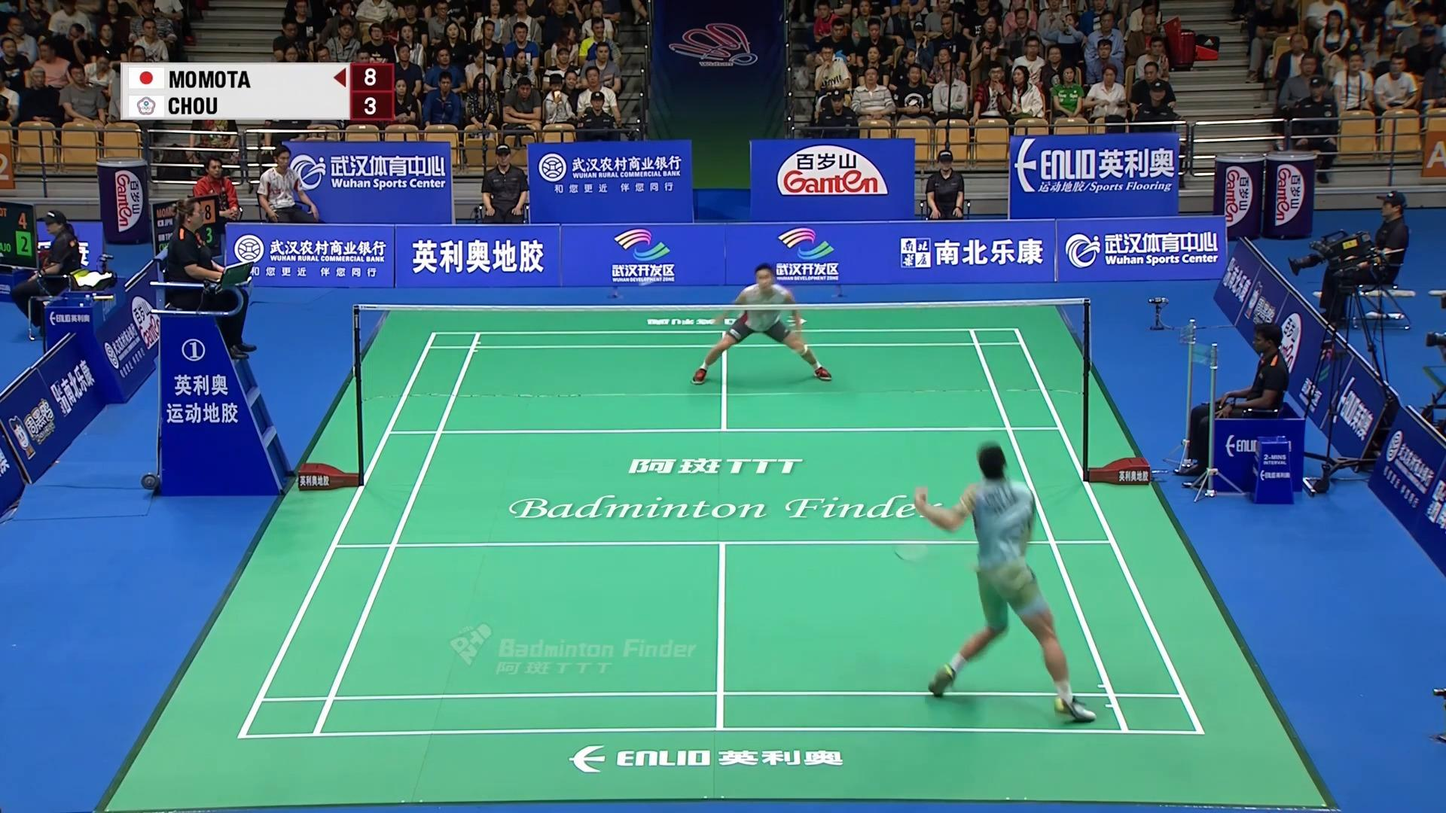player: (913, 441, 1096, 722), (692, 264, 831, 385)
shuttlecock: (638, 278, 656, 289)
